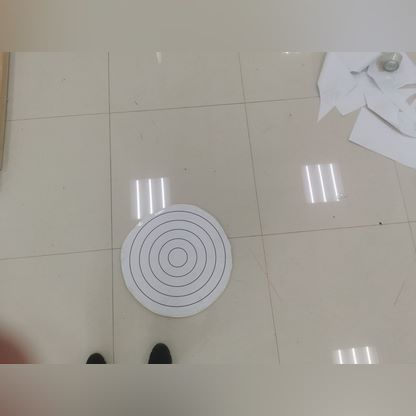circle: (109, 204, 232, 312)
